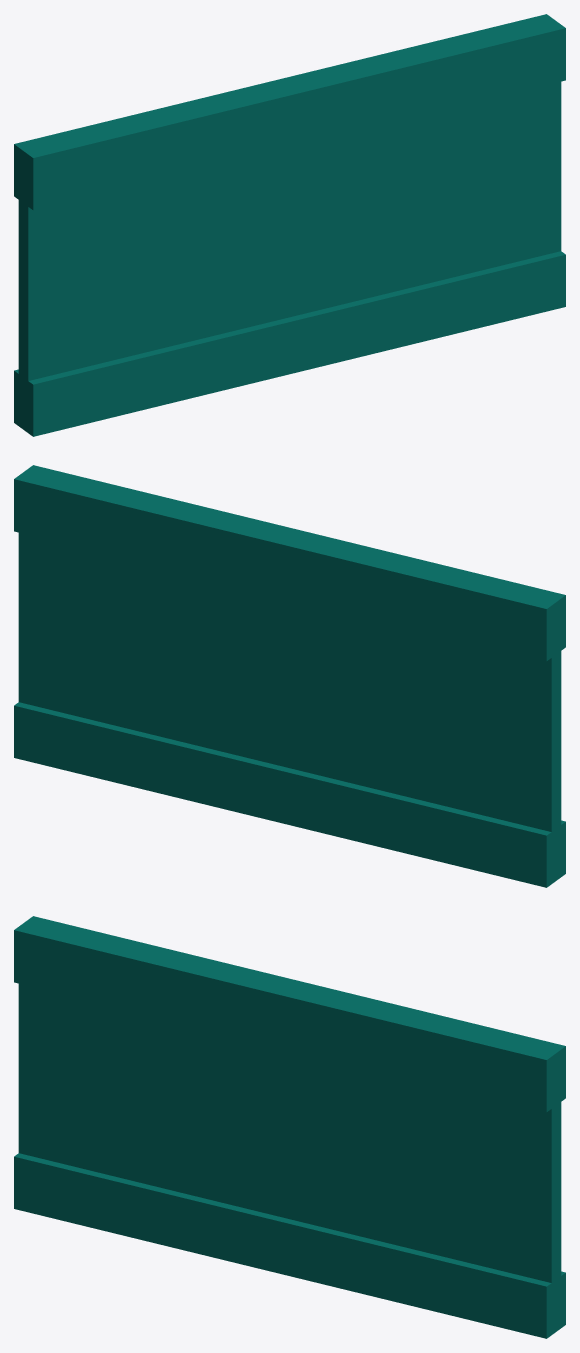
The model's file is Basket_Front.fbx.
3 renders of one model, top to bottom at view 1: azimuth 30°, elevation 25°; view 2: azimuth 150°, elevation 25°; view 3: azimuth 330°, elevation 25°, orthographic.
Visible parts, largest first — view 1: generated; view 2: generated; view 3: generated.
Part boxes in pixels (x1,y1,x2,y2): generated: (14,14,565,436); generated: (14,465,565,887); generated: (14,916,565,1338).
Bounding box in the file's own units: 320 × 160 × 20.
